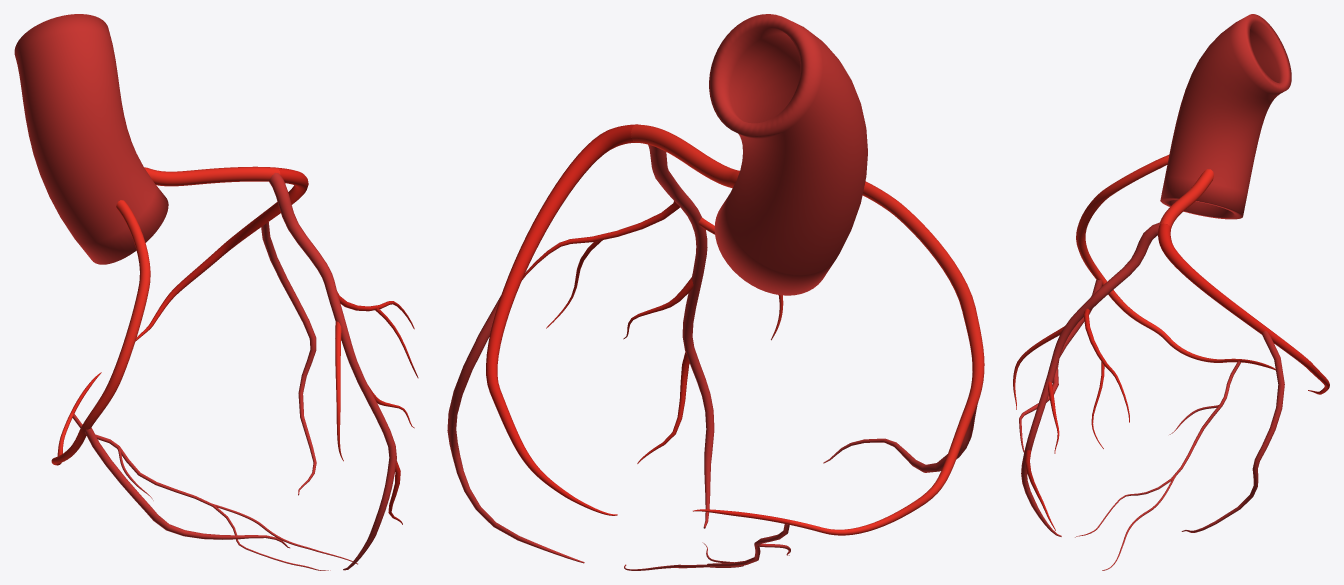
Rendered from newRightHeart.gltf.
3 renders of one model, left to right at view 1: azimuth 30°, elevation 25°; view 2: azimuth 150°, elevation 25°; view 3: azimuth 270°, elevation 25°, orthographic. The views are drawn at different scales.
Parts seen in each view (by area): view 1: aorta_new, LAD, RCA, LCx, LM, Rbig2, RMA, middleTiny2, septal, Rsmall2; view 2: aorta_new, LCx, RCA, LAD, Rbig2, LM, Rsmall2, middleTiny2, RMA; view 3: aorta_new, LAD, RCA, LCx, Rbig2, middleTiny2, LM, Rsmall2, RMA, septal.
Part boxes in pixels (left/top/right/bottom): aorta_new: left=14, top=14, right=168, bottom=264; LAD: left=269, top=172, right=396, bottom=570; RCA: left=51, top=200, right=150, bottom=465; LCx: left=135, top=167, right=308, bottom=341; LM: left=144, top=166, right=280, bottom=186; Rbig2: left=261, top=222, right=316, bottom=495; RMA: left=85, top=427, right=289, bottom=548; middleTiny2: left=72, top=413, right=357, bottom=570; septal: left=335, top=321, right=343, bottom=461; Rsmall2: left=337, top=291, right=418, bottom=378; aorta_new: left=709, top=14, right=867, bottom=295; LCx: left=486, top=124, right=637, bottom=515; RCA: left=789, top=181, right=984, bottom=535; LAD: left=648, top=144, right=714, bottom=528; Rbig2: left=447, top=296, right=584, bottom=563; LM: left=631, top=124, right=739, bottom=188; Rsmall2: left=522, top=201, right=679, bottom=328; middleTiny2: left=624, top=524, right=790, bottom=570; RMA: left=823, top=402, right=978, bottom=472; aorta_new: left=1160, top=14, right=1291, bottom=219; LAD: left=1021, top=222, right=1160, bottom=536; RCA: left=1076, top=155, right=1238, bottom=362; LCx: left=1158, top=223, right=1329, bottom=394; Rbig2: left=1181, top=330, right=1284, bottom=532; middleTiny2: left=1075, top=360, right=1241, bottom=570; LM: left=1159, top=169, right=1213, bottom=228; Rsmall2: left=1083, top=308, right=1129, bottom=448; RMA: left=1019, top=280, right=1102, bottom=452; septal: left=1013, top=326, right=1064, bottom=409.
Size of the model in its own units: 1.98 by 2.93 by 1.8.
